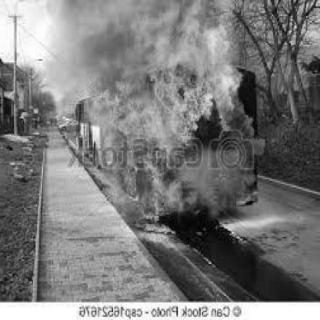Fire: (102, 12, 255, 235)
Smoke: (39, 0, 175, 76)
